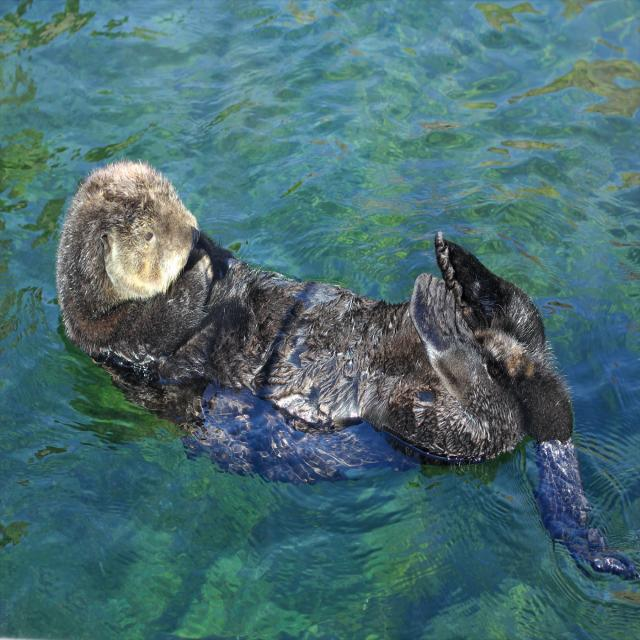otter: (58, 160, 575, 471)
